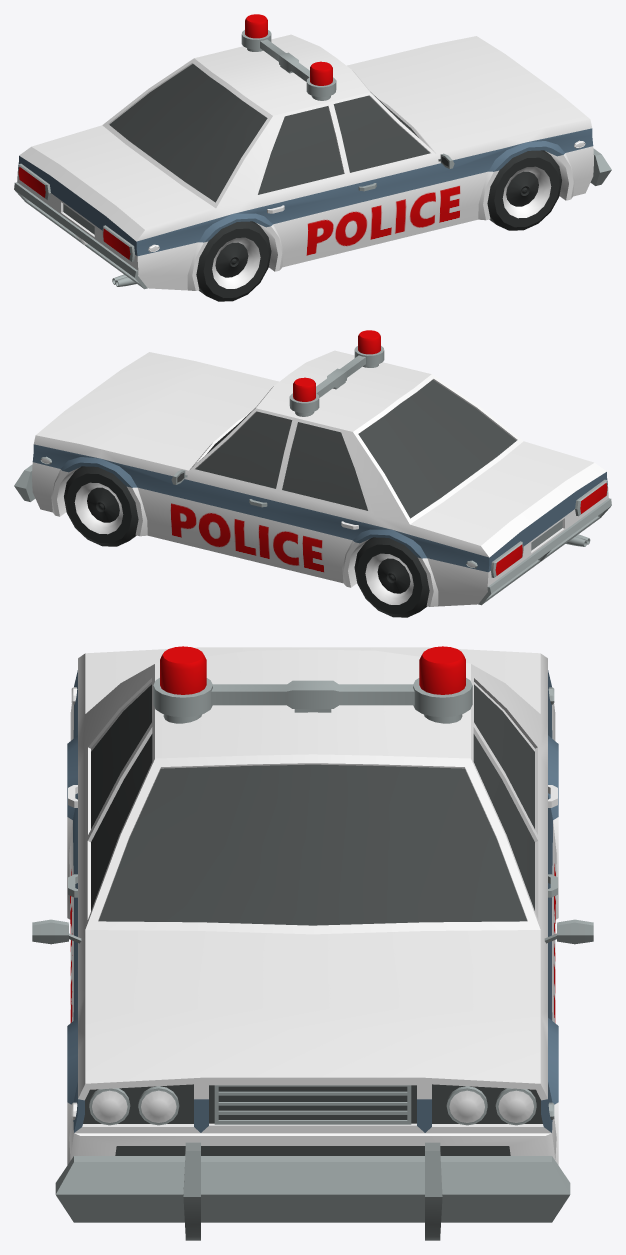
Rendered from car2.gltf.
3 renders of one model, top to bottom at view 1: azimuth 30°, elevation 25°; view 2: azimuth 150°, elevation 25°; view 3: azimuth 270°, elevation 25°, orthographic. The views are drawn at different scales.
Parts seen in each view (by area): view 1: car9, Front_wheel.001, Front_wheel; view 2: car9, Rear_wheel, Rear_wheel.001; view 3: car9.
Boxes of the visible parts, x1,y1,x2,y2 form: car9: (14, 14, 611, 290); Front_wheel.001: (196, 221, 271, 301); Front_wheel: (487, 150, 561, 230); car9: (14, 330, 611, 606); Rear_wheel: (354, 537, 429, 617); Rear_wheel.001: (64, 466, 138, 546); car9: (32, 646, 593, 1240).
Size of the model in its own units: 4.96 by 1.88 by 2.53.
Materials: 1 (1 with a texture image).
